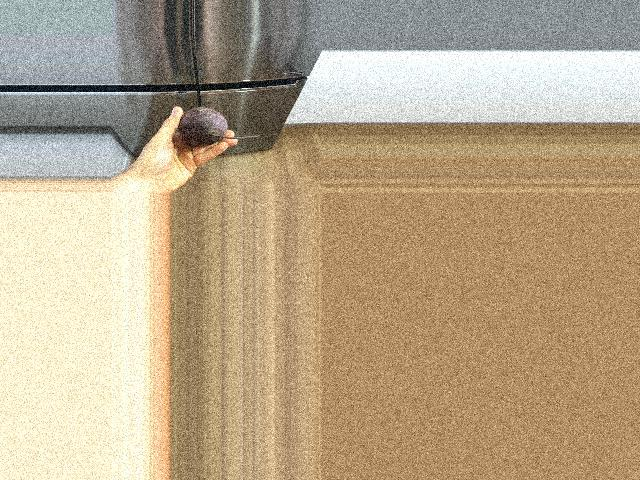beet: (179, 107, 260, 144)
